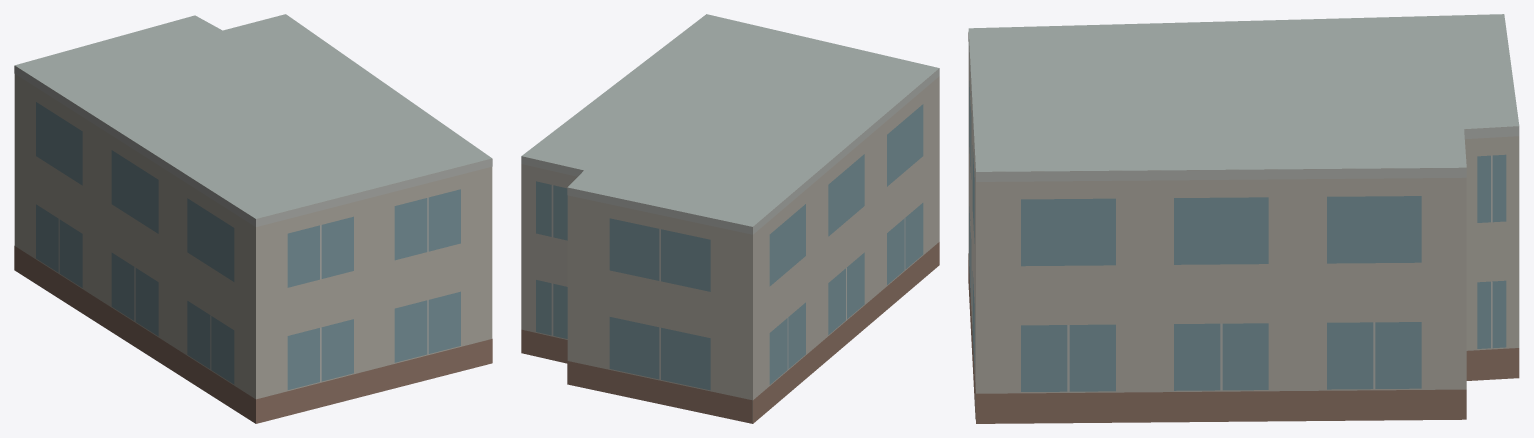
The model's file is survey-upis-32785259.glb.
3 views of the same model, side by side, from view 1: azimuth 30°, elevation 25°; view 2: azimuth 150°, elevation 25°; view 3: azimuth 270°, elevation 25° (orthographic). The views are drawn at different scales.
Parts seen in each view (by area): view 1: survey-upis-32785259.tmp; view 2: survey-upis-32785259.tmp; view 3: survey-upis-32785259.tmp.
Boxes of the visible parts, x1,y1,x2,y2 form: survey-upis-32785259.tmp: (14, 14, 492, 423); survey-upis-32785259.tmp: (521, 14, 939, 423); survey-upis-32785259.tmp: (968, 14, 1519, 423).
Bounding box in the file's own units: 8.21 × 6.1 × 12.1.
